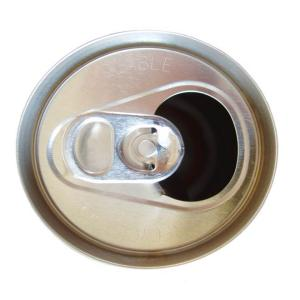Can: (13, 23, 284, 273)
